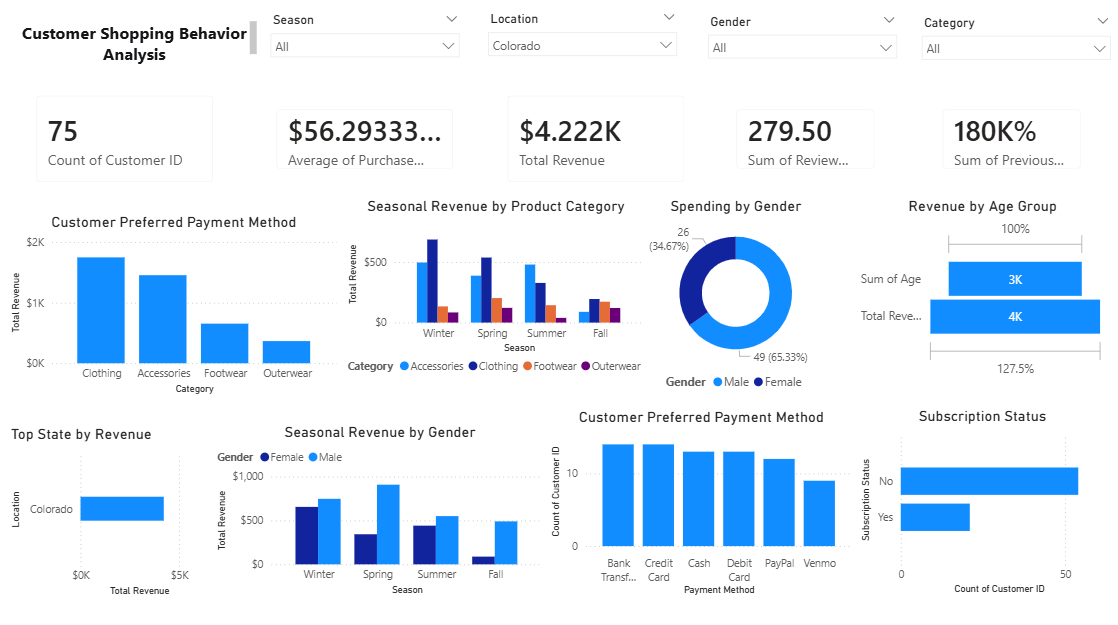

What the dashboard file says about the page in this screenshot:
{"tool":"powerbi","page":{"name":"Dashboard","canvas":[1280,720],"ordinal":0},"visuals":[{"type":"cardVisual","fields":{"Data":["CountNonNull(customer_shopping_behavior.Customer ID)"]},"box":[26.1,96.1,236,133.1],"z":0},{"type":"slicer","fields":{"Values":["customer_shopping_behavior.Gender"]},"box":[800,13.7,236,74.1],"z":1000},{"type":"slicer","fields":{"Values":["customer_shopping_behavior.Category"]},"box":[1044,15.1,236,70],"z":2000},{"type":"slicer","fields":{"Values":["customer_shopping_behavior.Season"]},"box":[300.5,12.3,236,83.7],"z":3000},{"type":"slicer","fields":{"Values":["customer_shopping_behavior.Location"]},"box":[548.9,11,236,83.7],"z":4000},{"type":"textbox","box":[19.2,23.3,281.3,60.4],"z":5000},{"type":"cardVisual","fields":{"Data":["Avg(customer_shopping_behavior.Purchase Amount (USD))"]},"box":[300.5,111.1,236,102.9],"z":6000},{"type":"cardVisual","fields":{"Data":["customer_shopping_behavior.Total Revenue"]},"box":[564,96.1,236,133.1],"z":7000},{"type":"donutChart","title":"Spending by Gender","fields":{"Category":["customer_shopping_behavior.Gender"],"Y":["CountNonNull(customer_shopping_behavior.Item Purchased)"]},"box":[698.6,228.6,287.1,230],"z":8000},{"type":"cardVisual","fields":{"Data":["Sum(customer_shopping_behavior.Review Rating)"]},"box":[826.1,111.1,192.1,102.9],"z":9000},{"type":"barChart","title":"Subscription Status","fields":{"Y":["CountNonNull(customer_shopping_behavior.Customer ID)"],"Category":["customer_shopping_behavior.Subscription Status"]},"box":[979.8,467.9,288.2,219.6],"z":10000},{"type":"clusteredColumnChart","title":"Customer Preferred Payment Method","fields":{"Category":["customer_shopping_behavior.Payment Method"],"Y":["CountNonNull(customer_shopping_behavior.Customer ID)"]},"box":[625.7,470,354.3,218.6],"z":11000},{"type":"cardVisual","fields":{"Data":["Sum(customer_shopping_behavior.Previous Purchases)"]},"box":[1062.1,111.1,192.1,102.9],"z":12000},{"type":"clusteredColumnChart","title":"Customer Preferred Payment Method","fields":{"Category":["customer_shopping_behavior.Category"],"Y":["customer_shopping_behavior.Total Revenue"]},"box":[8.6,247.1,382.9,211.4],"z":13000},{"type":"funnel","title":"Revenue by Age Group","fields":{"Y":["Sum(customer_shopping_behavior.Age)","customer_shopping_behavior.Total Revenue"]},"box":[980,228.6,288.6,211.4],"z":14000},{"type":"clusteredColumnChart","title":"Seasonal Revenue  by Product Category","fields":{"Category":["customer_shopping_behavior.Season"],"Y":["customer_shopping_behavior.Total Revenue"],"Series":["customer_shopping_behavior.Category"]},"box":[393.8,228.5,347.7,211.5],"z":15000},{"type":"clusteredColumnChart","title":"Seasonal Revenue by Gender","fields":{"Y":["customer_shopping_behavior.Total Revenue"],"Category":["customer_shopping_behavior.Season"],"Series":["customer_shopping_behavior.Gender"]},"box":[243.8,487.5,382.5,201.2],"z":16000},{"type":"clusteredBarChart","title":"Top State by Revenue","fields":{"Category":["customer_shopping_behavior.Location"],"Y":["customer_shopping_behavior.Total Revenue"]},"box":[9,488,235,201],"z":17000}]}

Visuals, with their boxes in screenshot pixels (x1, y1, x2, y2), scaled from the page's 1280x720 canvas onto the 1118x625 screenshot:
cardVisual - CountNonNull(customer_shopping_behavior.Customer ID): crop(23, 83, 229, 199)
slicer - customer_shopping_behavior.Gender: crop(699, 12, 905, 76)
slicer - customer_shopping_behavior.Category: crop(912, 13, 1117, 74)
slicer - customer_shopping_behavior.Season: crop(262, 11, 469, 83)
slicer - customer_shopping_behavior.Location: crop(479, 10, 686, 82)
textbox: crop(17, 20, 262, 73)
cardVisual - Avg(customer_shopping_behavior.Purchase Amount (USD)): crop(262, 96, 469, 186)
cardVisual - customer_shopping_behavior.Total Revenue: crop(493, 83, 699, 199)
"Spending by Gender" donutChart: crop(610, 198, 861, 398)
cardVisual - Sum(customer_shopping_behavior.Review Rating): crop(722, 96, 889, 186)
"Subscription Status" barChart: crop(856, 406, 1108, 597)
"Customer Preferred Payment Method" clusteredColumnChart: crop(547, 408, 856, 598)
cardVisual - Sum(customer_shopping_behavior.Previous Purchases): crop(928, 96, 1095, 186)
"Customer Preferred Payment Method" clusteredColumnChart: crop(8, 214, 342, 398)
"Revenue by Age Group" funnel: crop(856, 198, 1108, 382)
"Seasonal Revenue  by Product Category" clusteredColumnChart: crop(344, 198, 648, 382)
"Seasonal Revenue by Gender" clusteredColumnChart: crop(213, 423, 547, 598)
"Top State by Revenue" clusteredBarChart: crop(8, 424, 213, 598)
